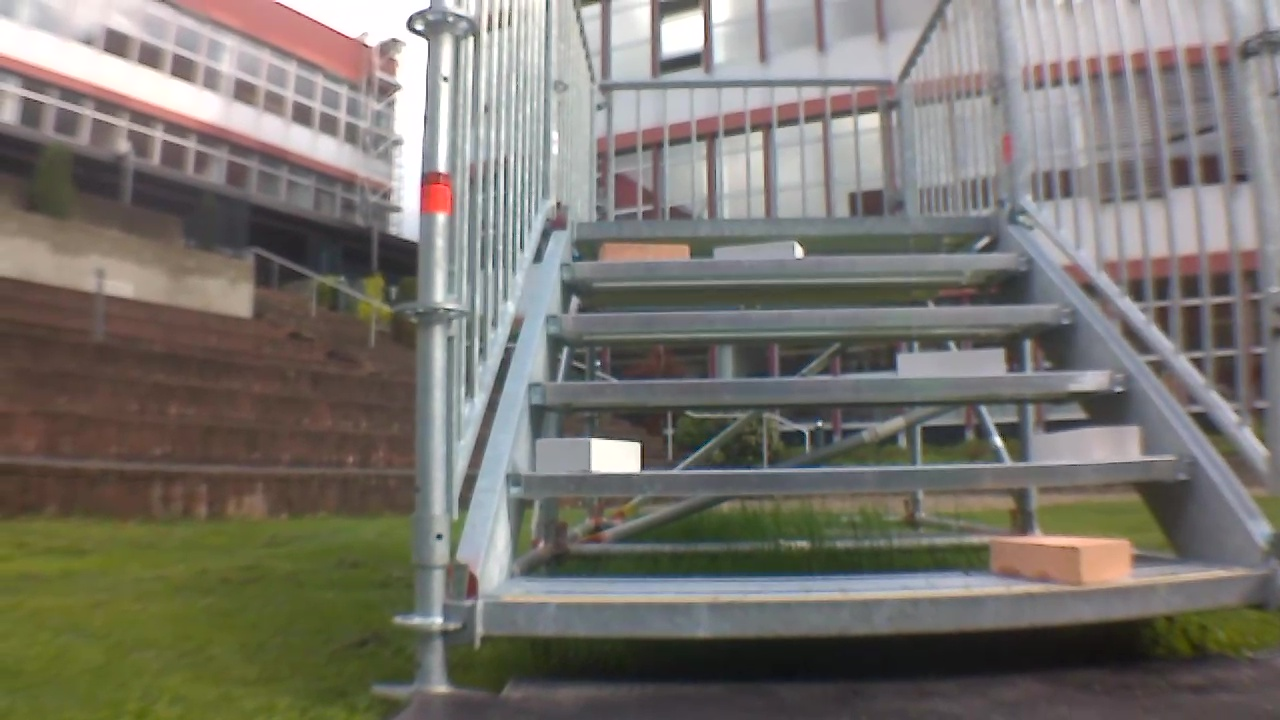brick: (989, 536, 1130, 585), (536, 436, 640, 472), (1034, 427, 1139, 461), (897, 349, 1002, 375), (598, 243, 688, 260), (716, 242, 801, 258)
edge: (479, 569, 1264, 636), (510, 457, 1199, 494), (529, 368, 1129, 404), (545, 302, 1075, 332), (560, 251, 1034, 277), (576, 215, 1003, 236)
stairs: (396, 4, 1278, 688)
steps: (470, 211, 1270, 648)
